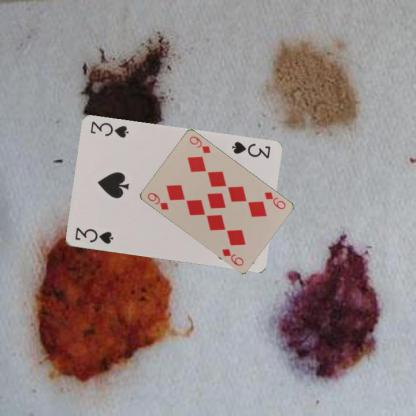3s: (72, 224, 115, 245), (228, 139, 271, 160)
9d: (144, 190, 170, 212), (261, 189, 287, 211)
